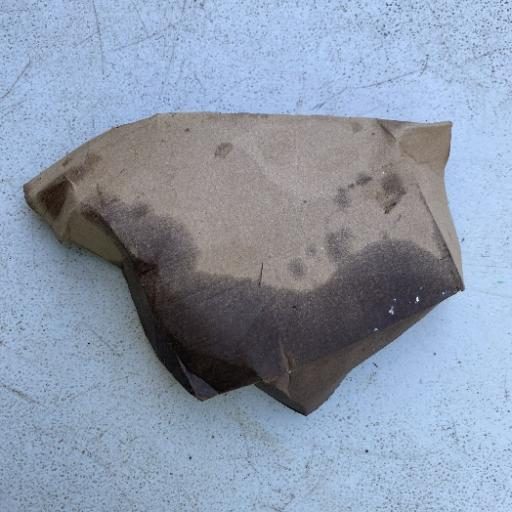Cardboard: (22, 110, 467, 418)
